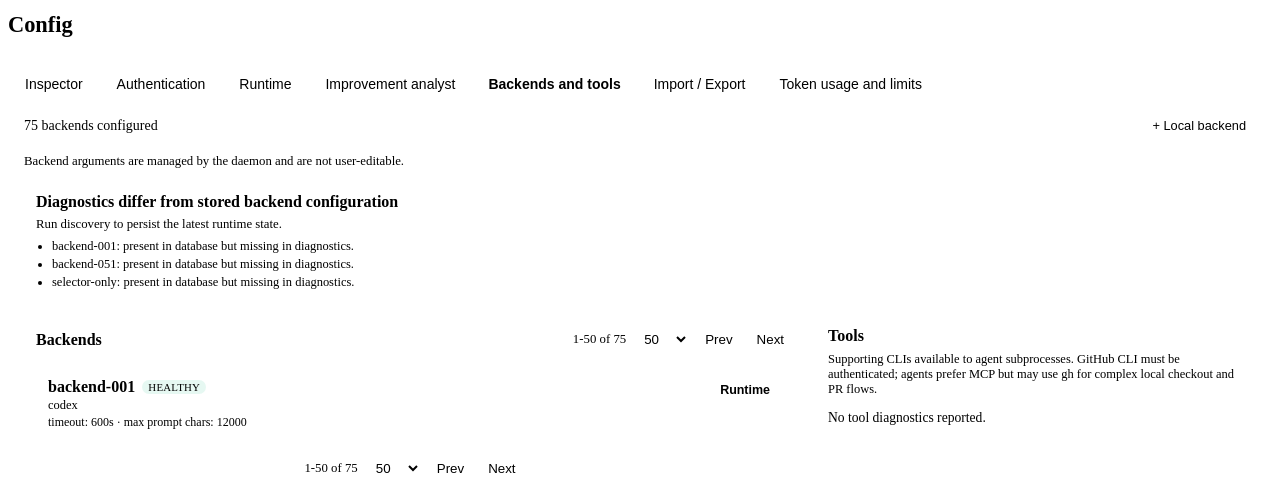
Test case: <ConfigPage /> backend pagination › paginates the backend admin list while loading selector options separately
Expected: the text "backend-001" is shown, [48,378,135,396]
Expected: the text "1-50 of 75" is shown 2 times, [573,332,626,348]; [304,461,358,476]
Click the 1st button "Next": {"x": 770, "y": 340} [749,328,792,352]
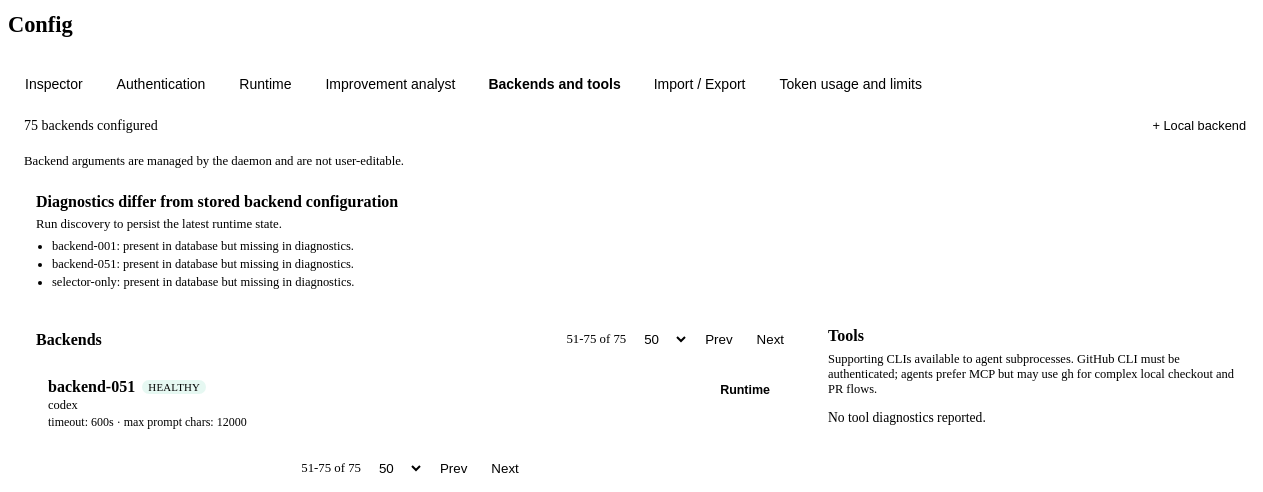
Expected: the text "51-75 of 75" is shown 2 times, [566,332,626,348]; [301,461,361,476]
Expected: the text "backend-051" is shown, [48,378,135,396]
